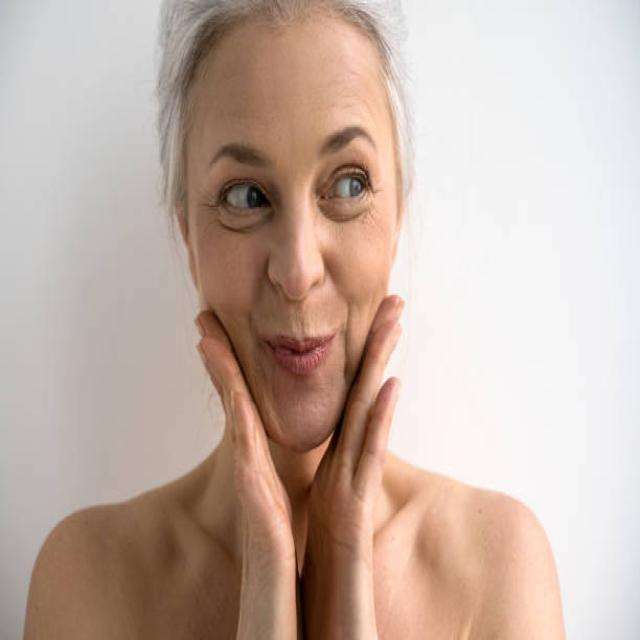Dry-Skin: (212, 45, 370, 135)
